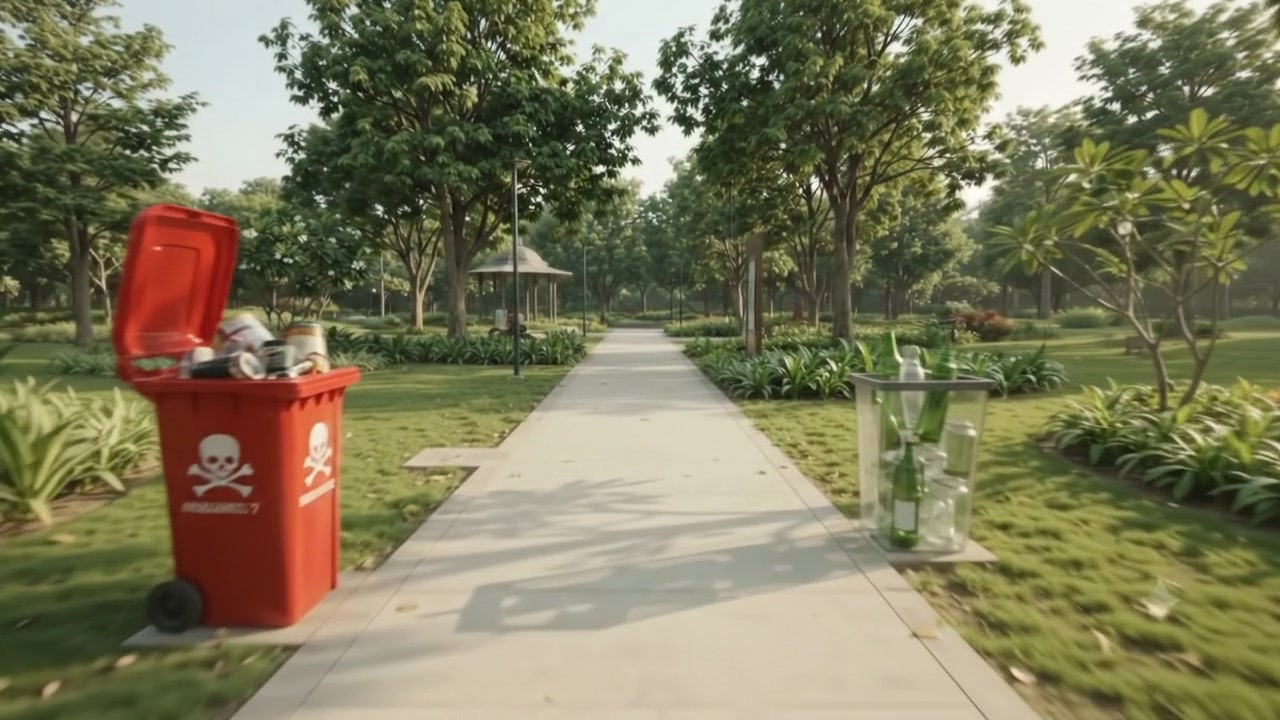hazardous: (102, 202, 371, 634)
